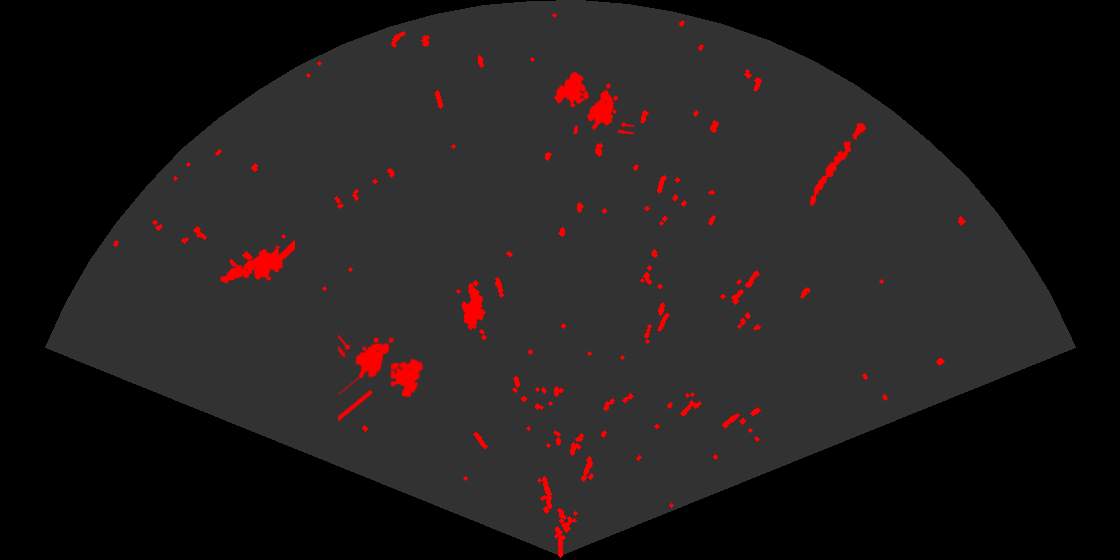AUV: (460, 281, 487, 332)
cage: (338, 333, 425, 421), (552, 70, 634, 134)
chain: (808, 121, 868, 207)
frogman: (218, 238, 295, 285)
